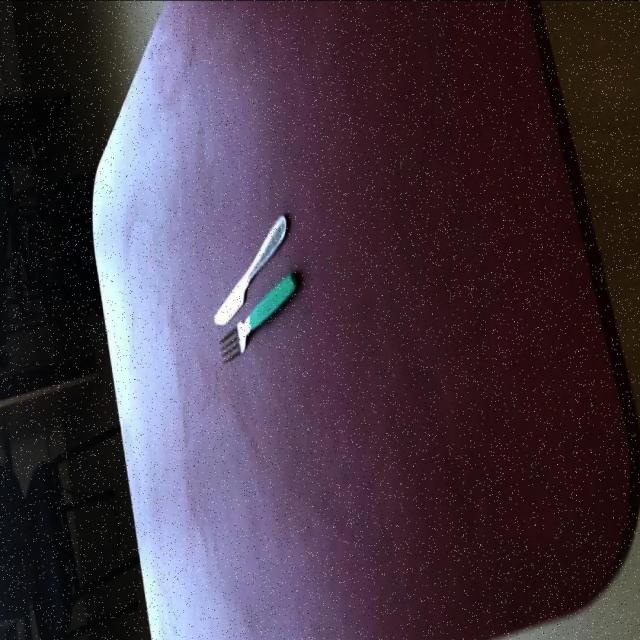Fork: (218, 274, 298, 367)
Knife: (211, 214, 299, 368), (212, 214, 287, 328)
